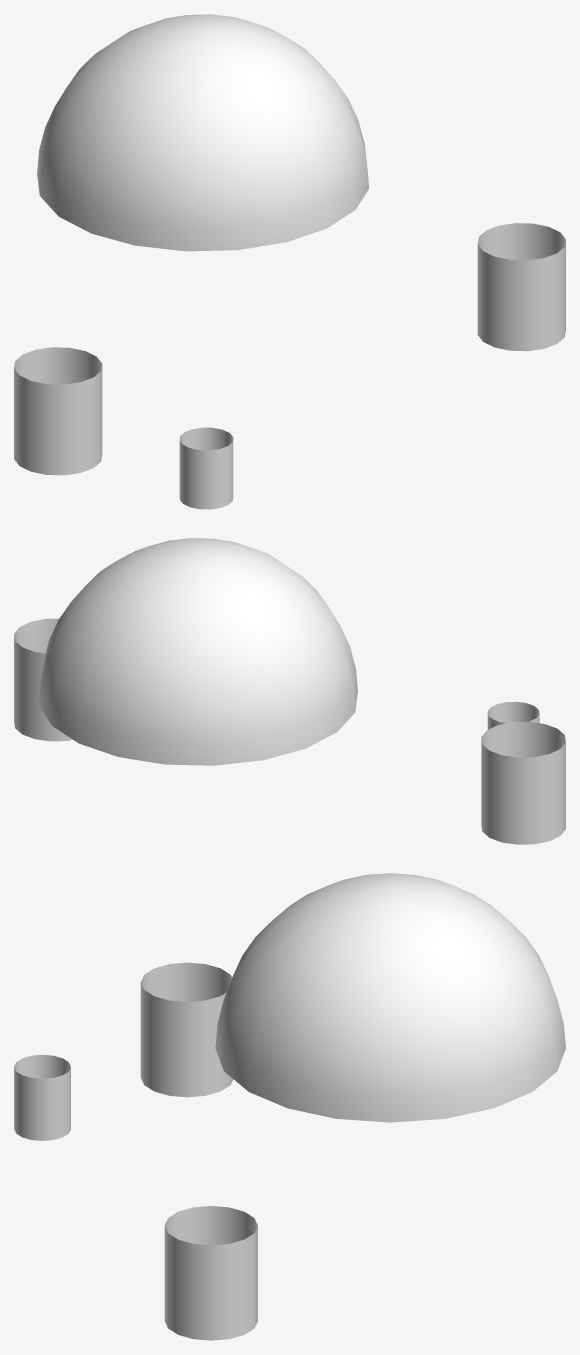
Rendered from glass_01.fbx.
3 renders of one model, top to bottom at view 1: azimuth 30°, elevation 25°; view 2: azimuth 150°, elevation 25°; view 3: azimuth 270°, elevation 25°, orthographic. The views are drawn at different scales.
Visible parts, largest first — view 1: glass_01; view 2: glass_01; view 3: glass_01.
Part boxes in pixels (bbox=[...]): glass_01: bbox=[14, 14, 565, 509]; glass_01: bbox=[14, 538, 565, 844]; glass_01: bbox=[14, 873, 565, 1340].
Size of the model in its own units: 1145 by 609 by 945.
Materials: 1 (1 with a texture image).
